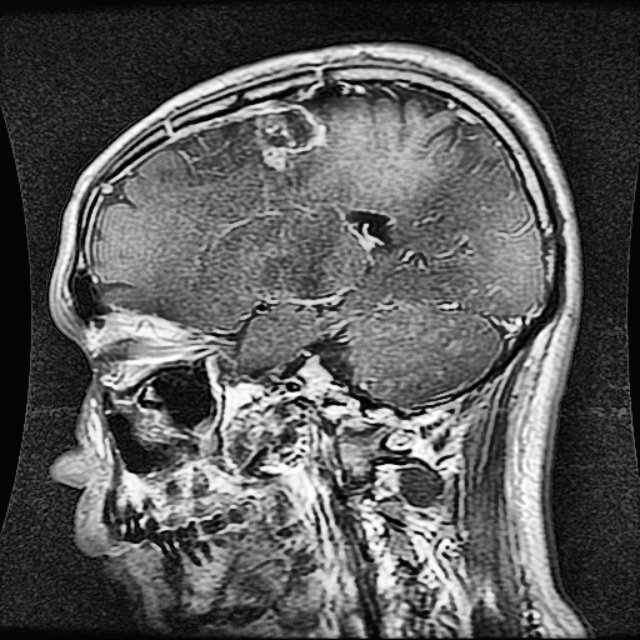Meningioma: (262, 110, 325, 172)
